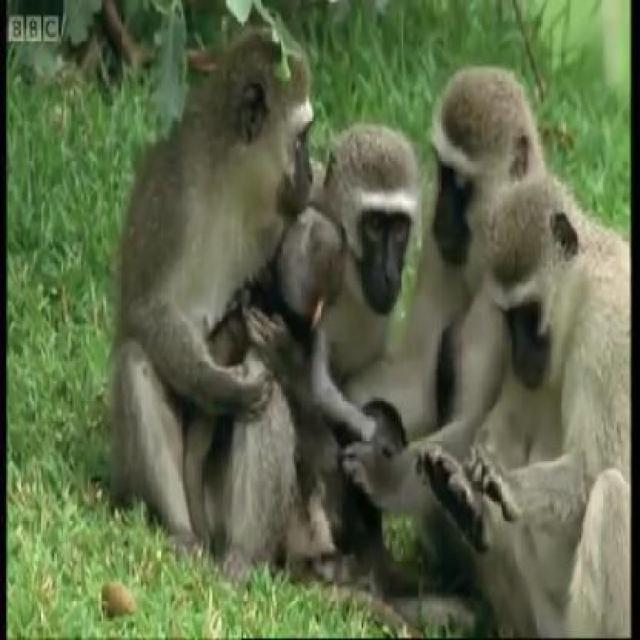Monkey: (154, 27, 323, 542), (460, 184, 632, 638), (399, 48, 533, 320), (258, 183, 333, 637), (305, 101, 423, 382)
